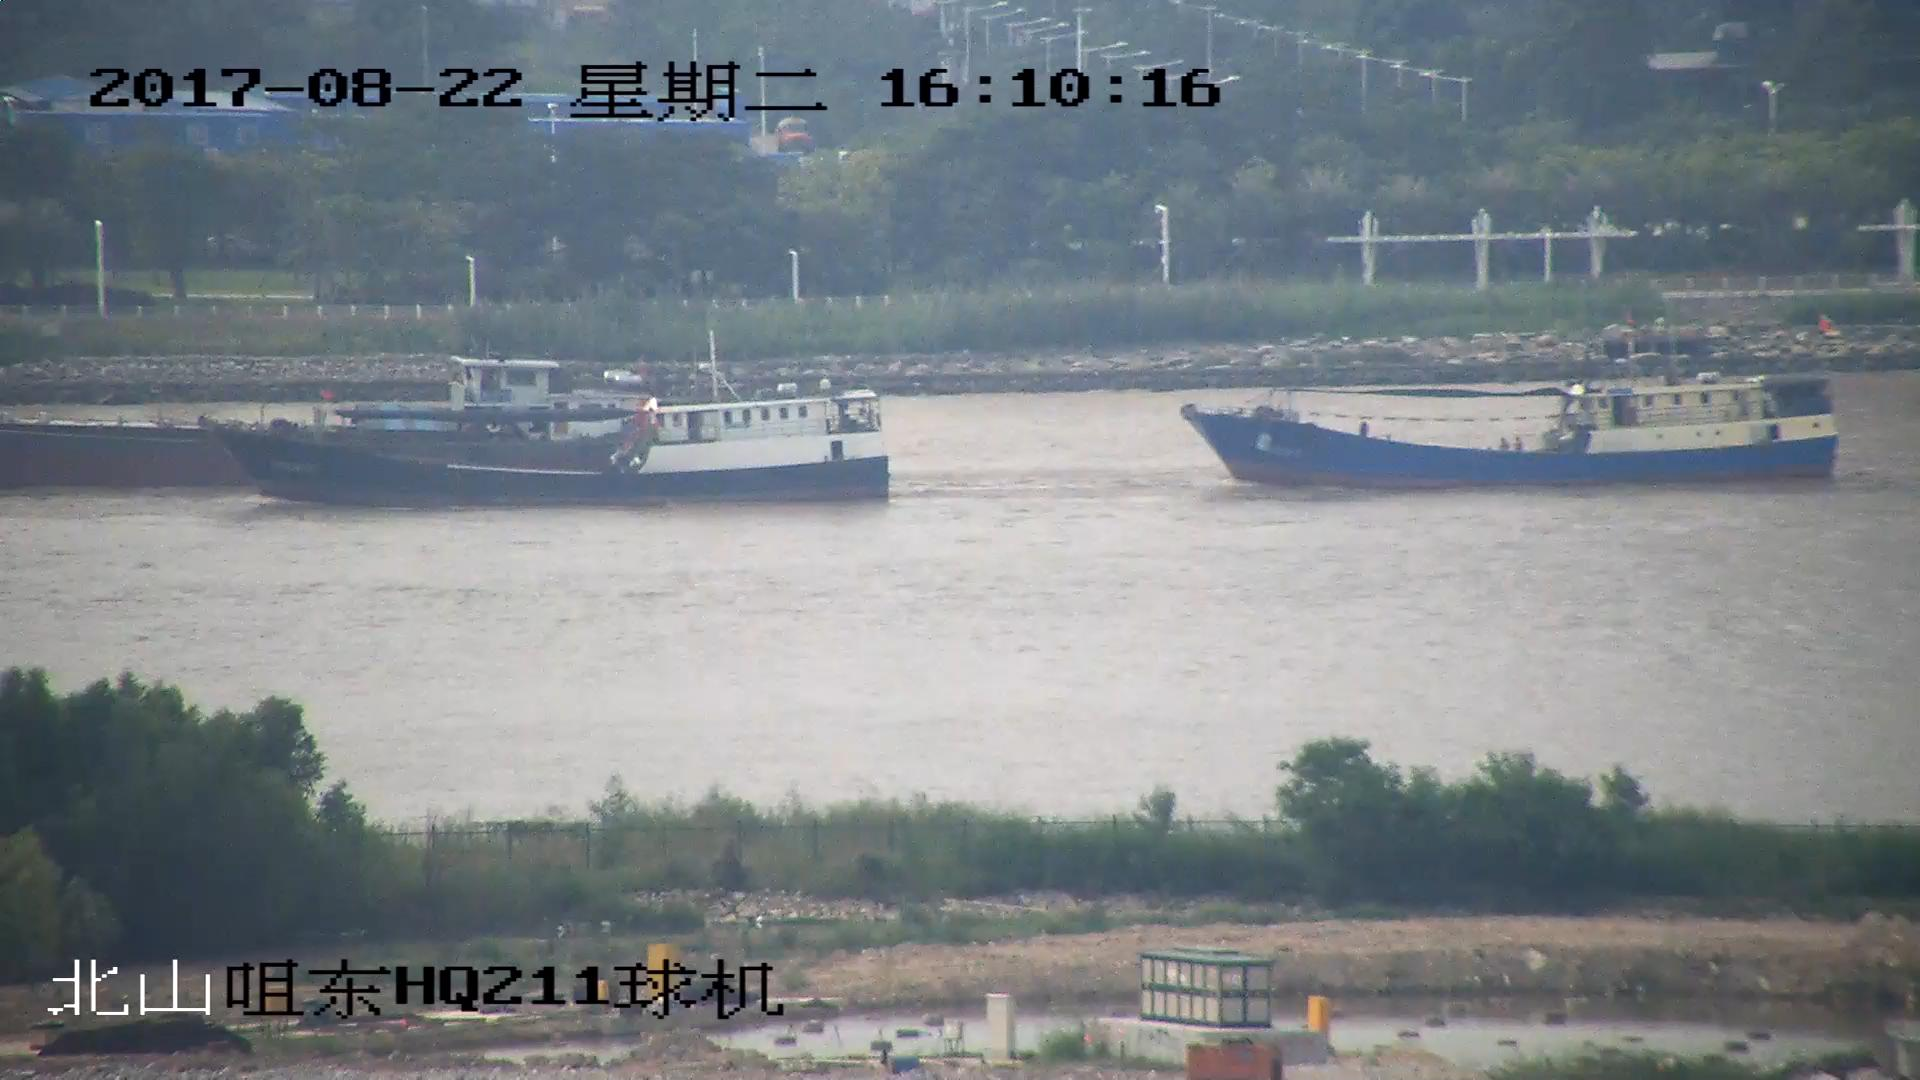bulk cargo carrier: (1, 361, 565, 486)
fishing boat: (219, 352, 889, 508), (1189, 346, 1836, 491)
